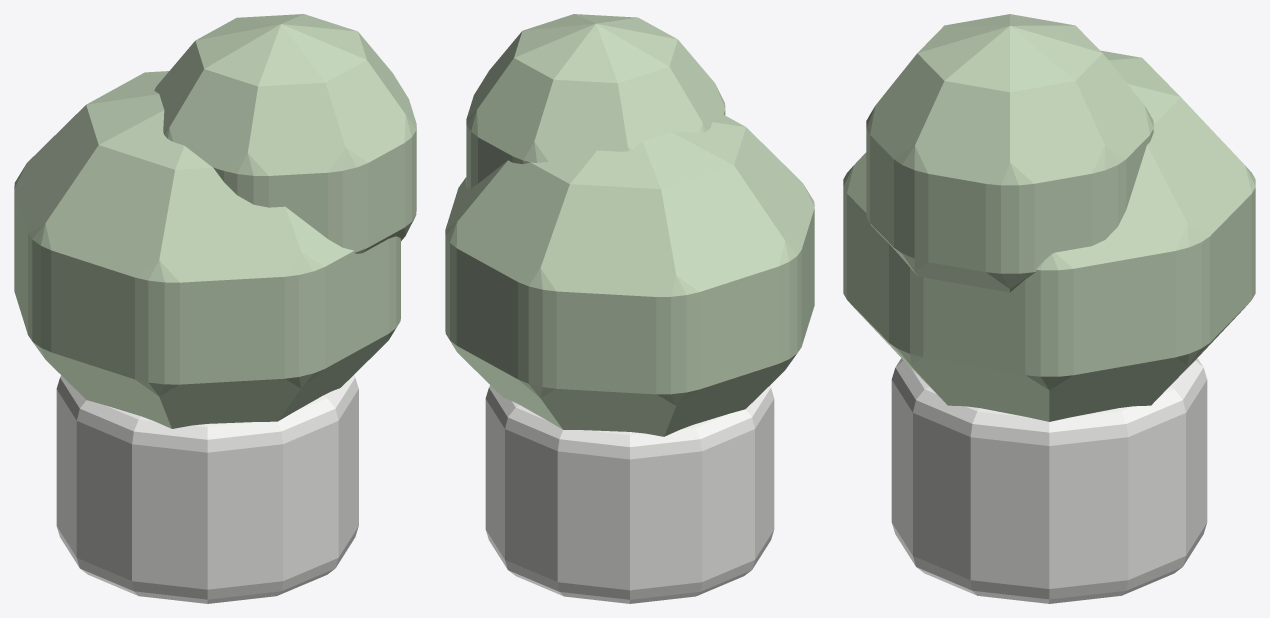
The model's file is PlantSmall.fbx.
3 views of the same model, side by side, from view 1: azimuth 30°, elevation 25°; view 2: azimuth 150°, elevation 25°; view 3: azimuth 270°, elevation 25° (orthographic). The views are drawn at different scales.
Parts seen in each view (by area): view 1: PlantSmall; view 2: PlantSmall; view 3: PlantSmall.
Boxes of the visible parts, box(x1,y1,x2,y2) form: PlantSmall: box(14, 14, 416, 603); PlantSmall: box(445, 14, 814, 603); PlantSmall: box(843, 14, 1255, 603).
Bounding box in the file's own units: 0.3161 × 0.46 × 0.3137.
